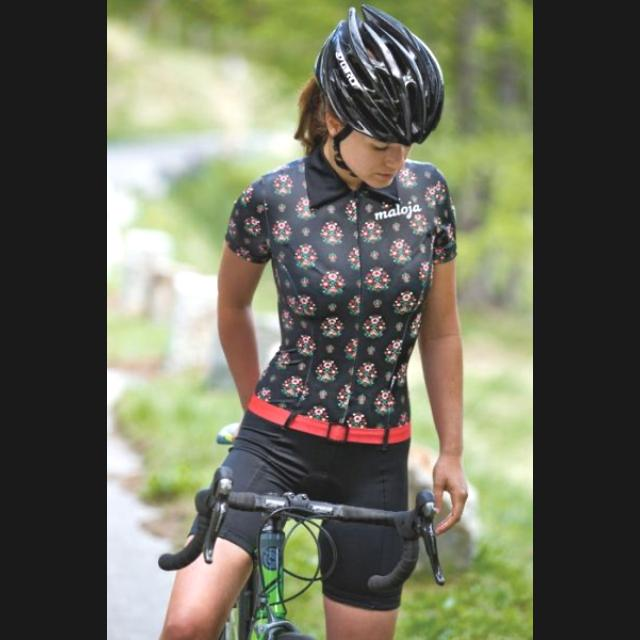With Helmet: (294, 4, 454, 208)
